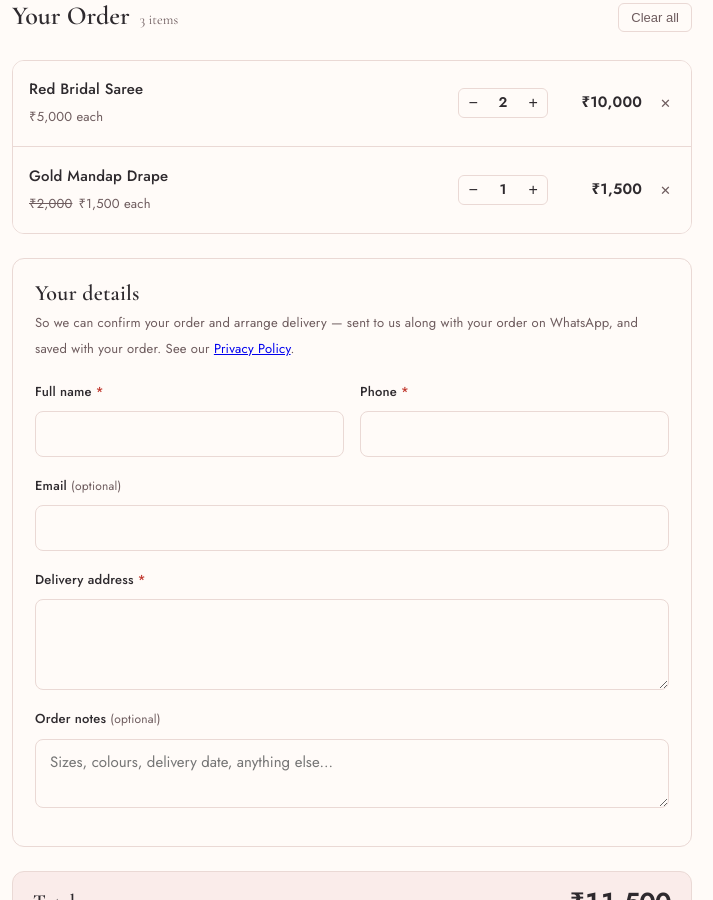
Test: placing an order › opens WhatsApp anyway when the order could not be saved
Expected: the text "Red Bridal Saree" is shown, [29,77,143,102]
Type "Asha Menon" into the field labelled "Full name *" at (190, 434), box [35,411,344,457]
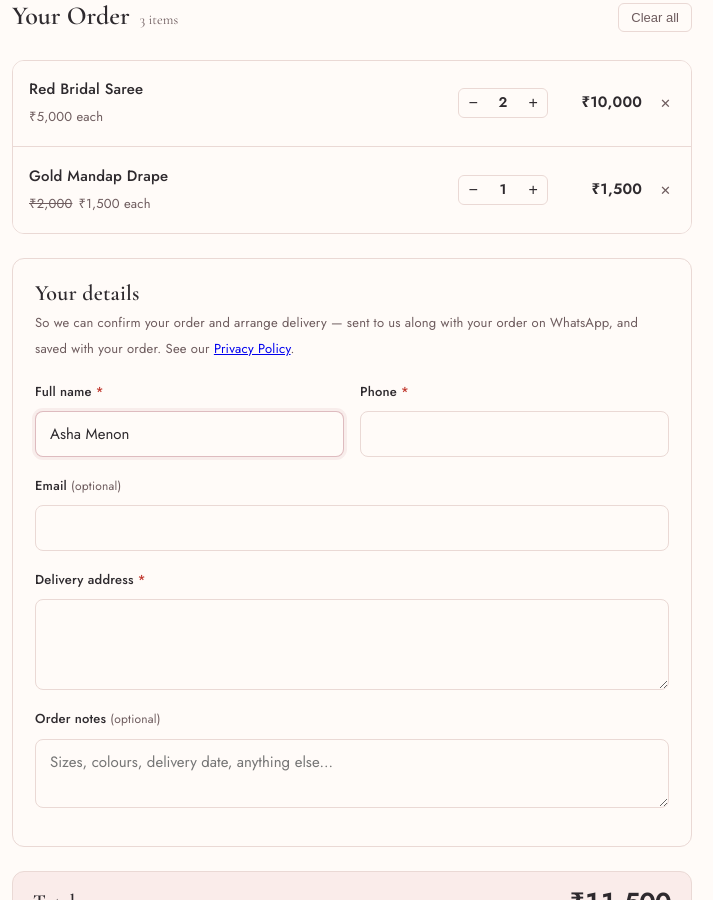
Type "9876543210" into the field labelled "Phone *" at (514, 434), box [360,411,669,457]
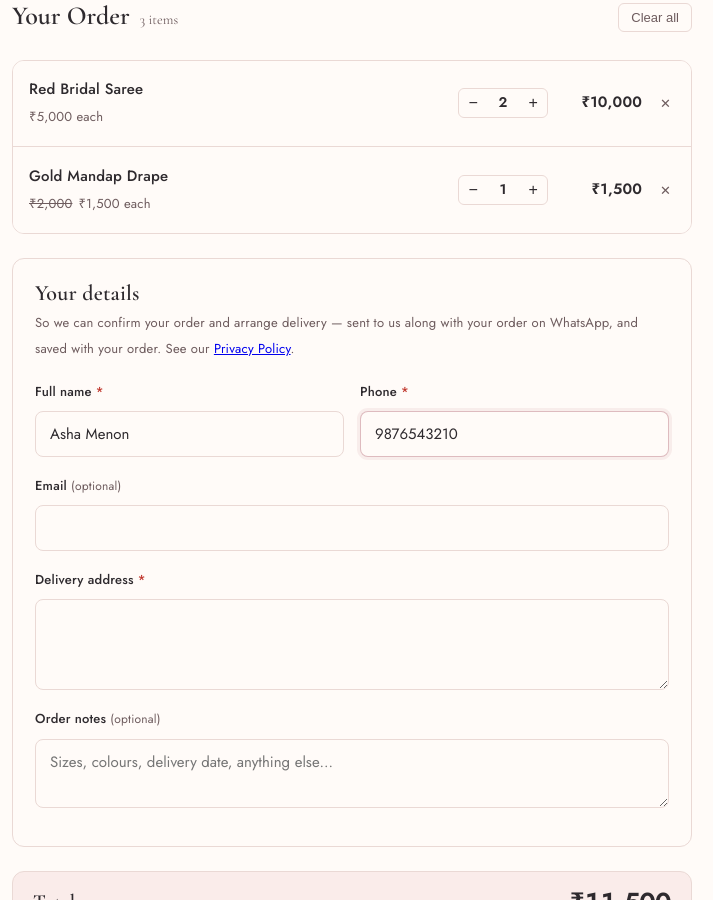
Type "12 Rose Street" into the text box labelled "Delivery address *" at (352, 644), box [35,599,669,690]
(page scrolled)
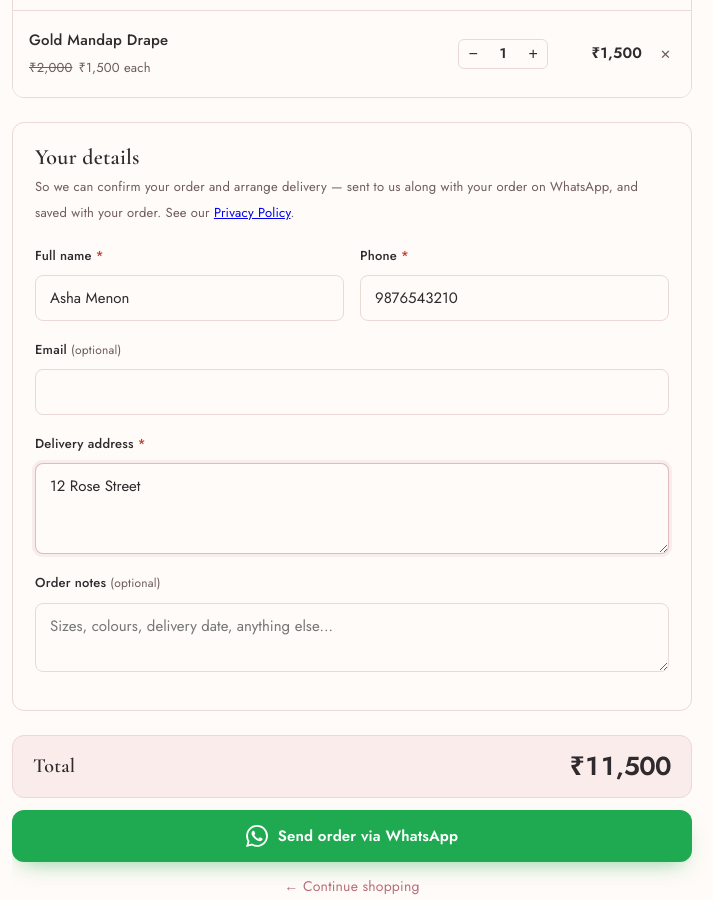
Click the button "Send order via WhatsApp" at (352, 836), box [12,810,692,862]
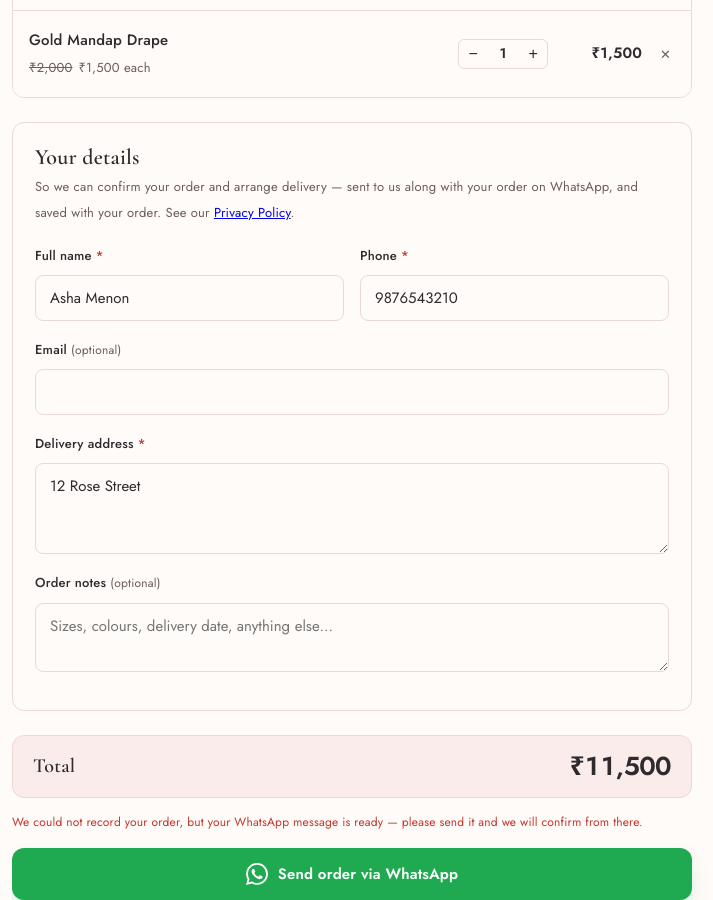
Expected: the text "could not record your order" is shown, [12,813,643,831]
